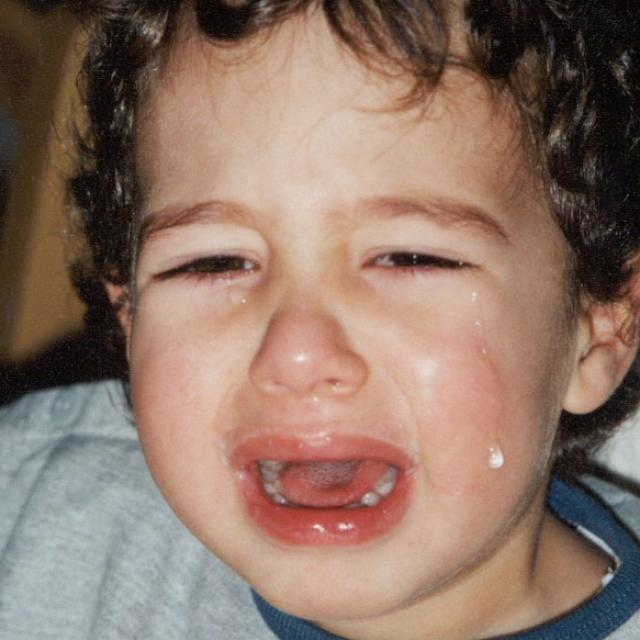Depress: (129, 20, 573, 618)
